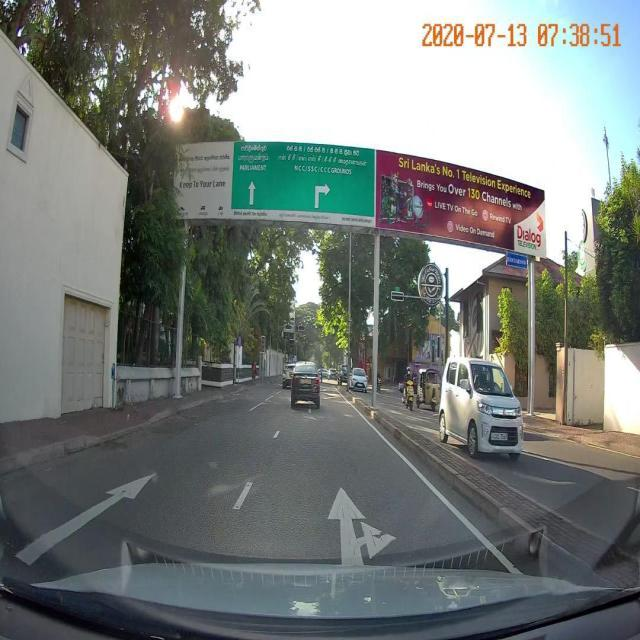Liniya 1: (345, 400, 524, 575), (232, 480, 253, 510), (249, 402, 263, 411), (273, 430, 280, 438), (265, 395, 274, 401)
Strelka vpered: (12, 471, 157, 569)
Strelka vpered - vpravo: (326, 485, 401, 566)
